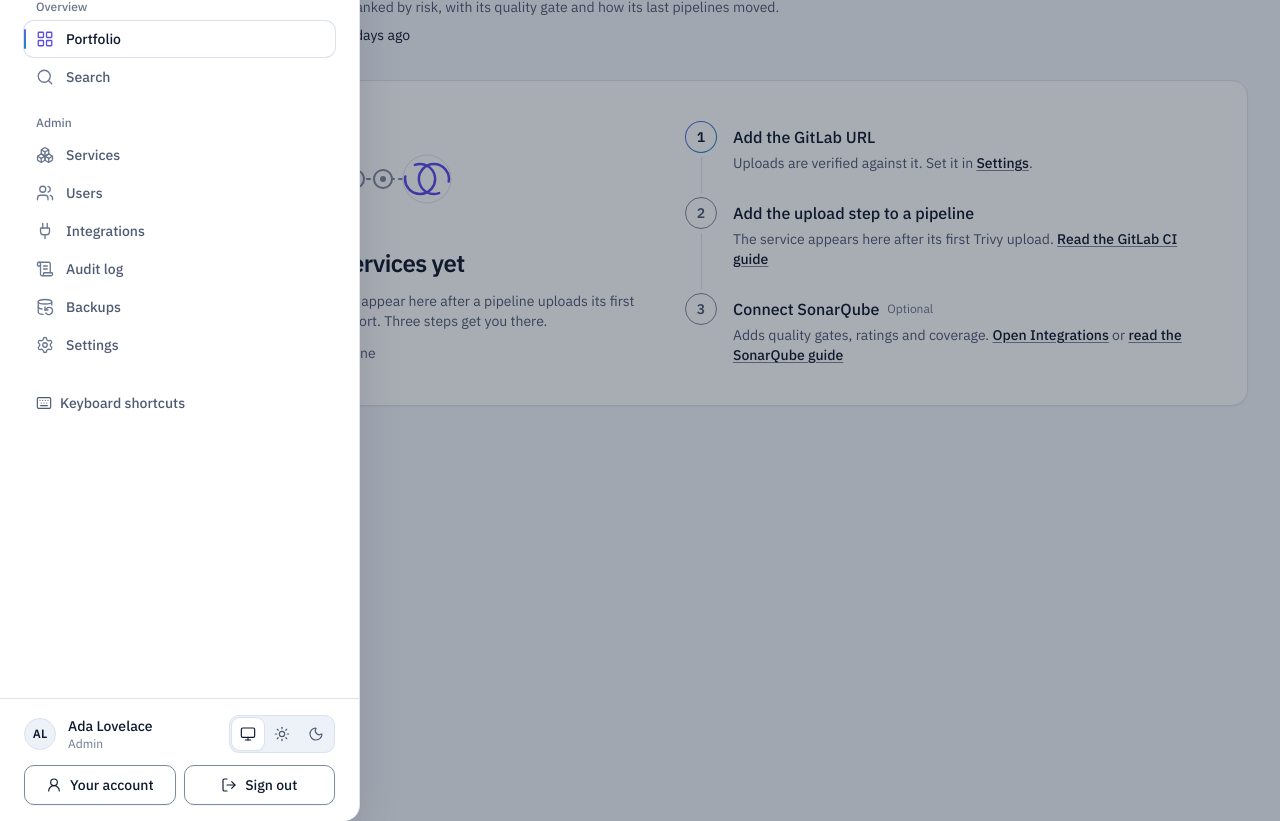
protected layout › opens the phone menu as a sheet and closes it after navigating
Earlier steps of the test are not shown.
Check: the element named "Theme" is shown, box [229,715,335,753]
Check: the button "Sign out" is shown, box [184,765,335,805]
Click the link "Search" at {"x": 73, "y": 77}, box [36,68,110,86]
(page scrolled)
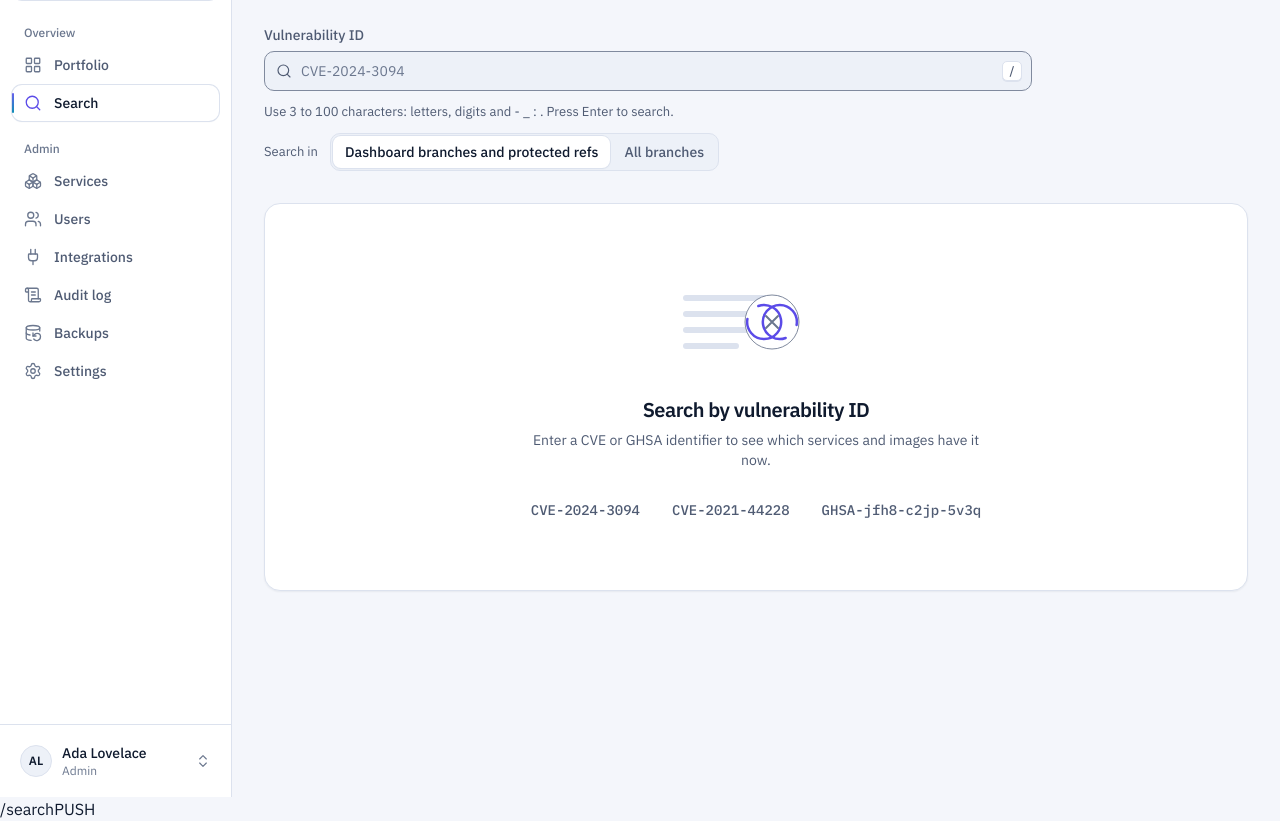
Check: the dialog "Menu" is not shown
Check: the text with test id "location" reads "/search", box [0,799,54,819]
